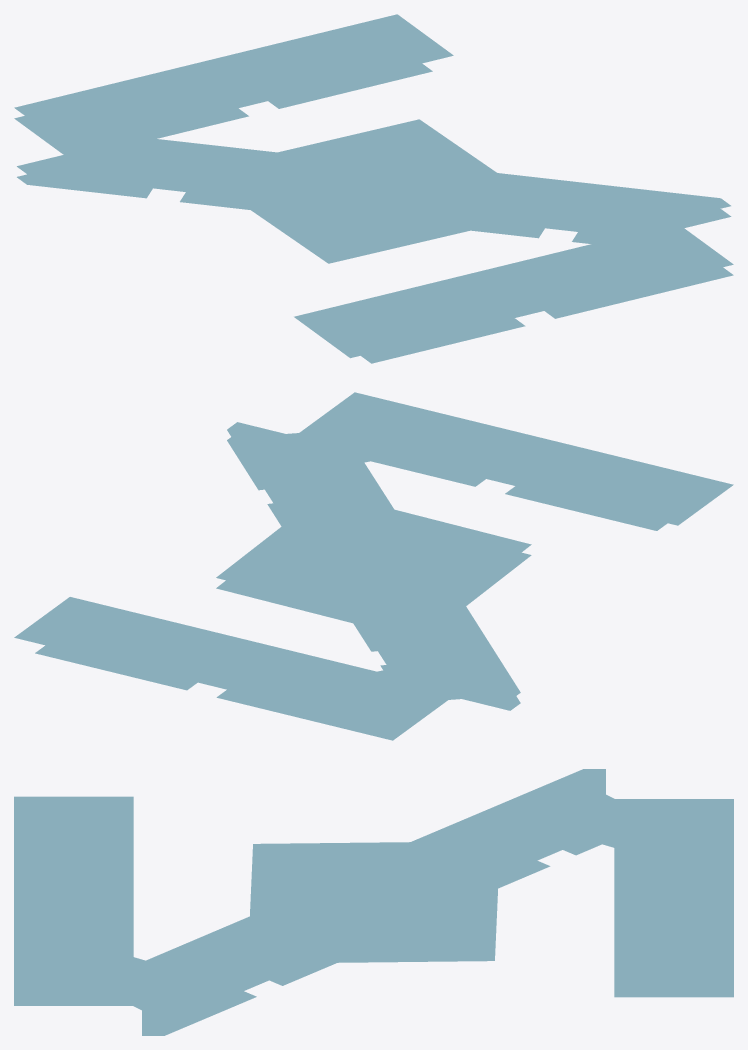
Rendered from BC_Collider_ErCeng_1.FBX.
The picture shows the model from 3 angles, top to bottom: view 1: azimuth 30°, elevation 25°; view 2: azimuth 150°, elevation 25°; view 3: azimuth 270°, elevation 25°; orthographic projection. The views are drawn at different scales.
Parts seen in each view (by area): view 1: BC_Collider_ErCeng_1; view 2: BC_Collider_ErCeng_1; view 3: BC_Collider_ErCeng_1.
Part boxes in pixels (<box>): BC_Collider_ErCeng_1: <box>14,14,733,363</box>; BC_Collider_ErCeng_1: <box>14,392,733,740</box>; BC_Collider_ErCeng_1: <box>14,769,733,1035</box>.
Bounding box in the file's own units: 33.6 × 0.6916 × 39.99.
